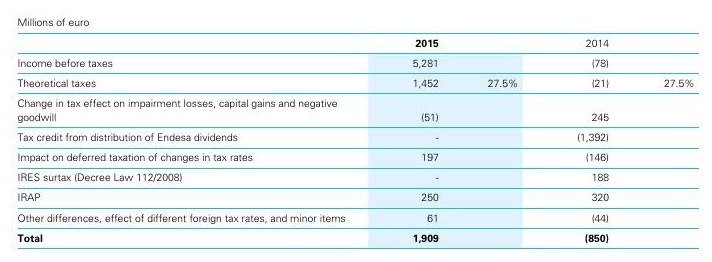table: (0, 0, 712, 262)
